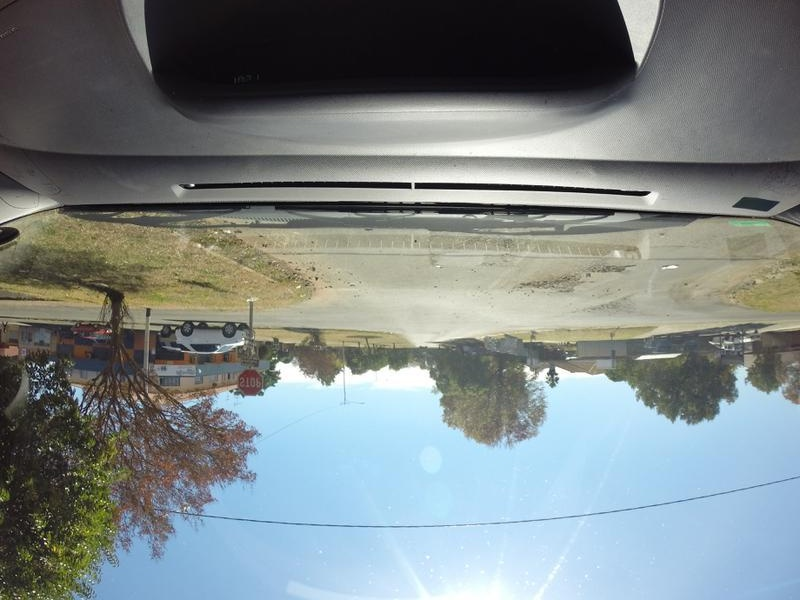pothole: (587, 251, 652, 273), (525, 274, 583, 291)
